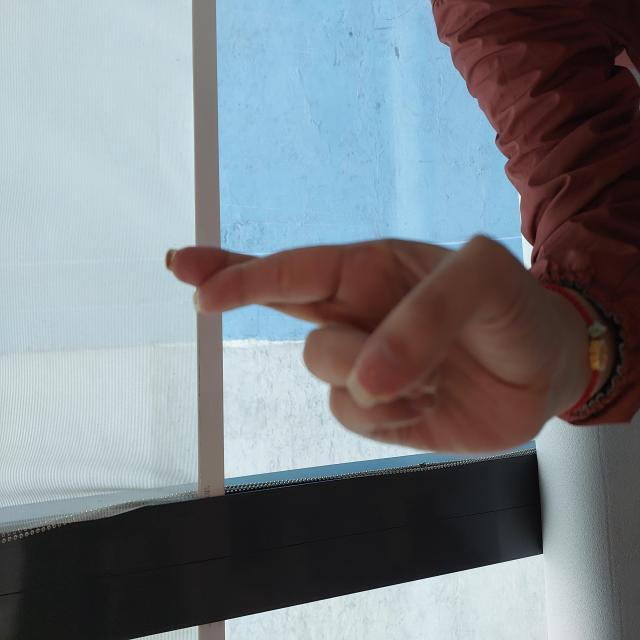R: (181, 163, 410, 576)
